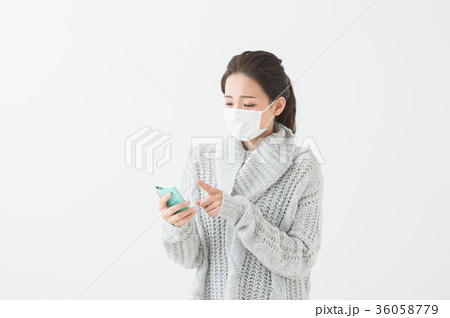mask: (216, 104, 270, 145)
